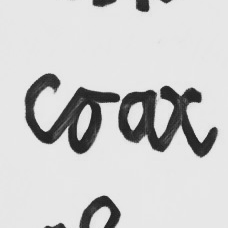a: (116, 88, 158, 148)
c: (22, 70, 63, 146)
o: (66, 85, 104, 157)
x: (159, 84, 219, 159)
